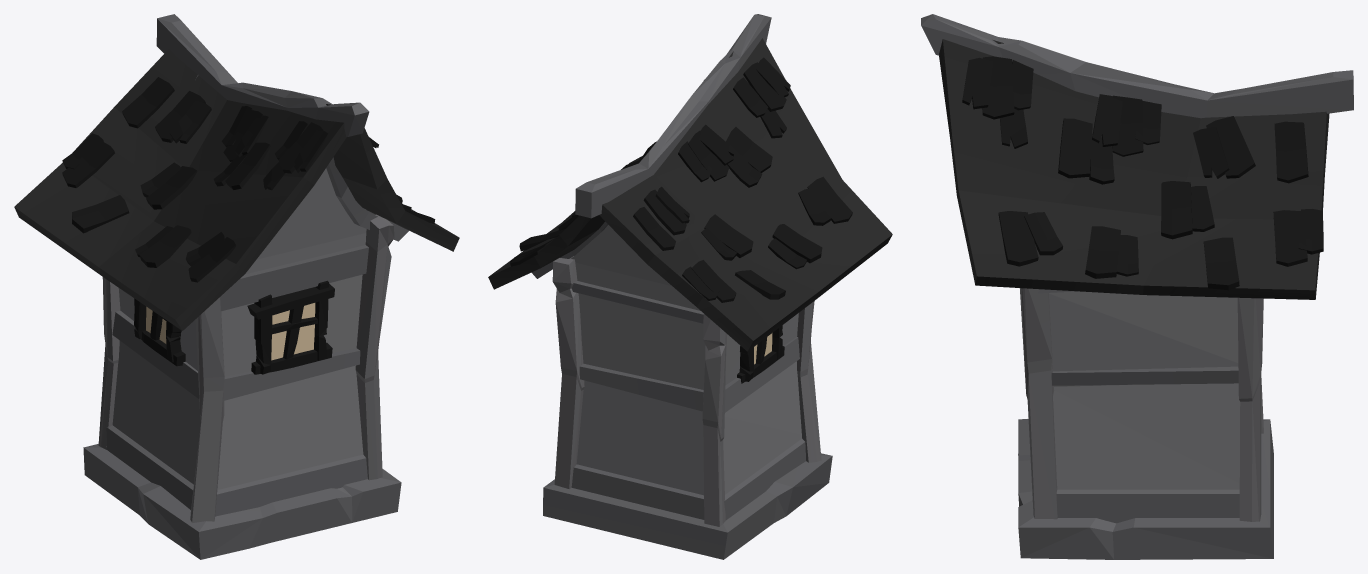
Rendered from WF_LP_HT_Build_HouseRoom.005.2.fbx.
3 views of the same model, side by side, from view 1: azimuth 30°, elevation 25°; view 2: azimuth 150°, elevation 25°; view 3: azimuth 270°, elevation 25° (orthographic). The views are drawn at different scales.
Visible parts, largest first — view 1: WF_LP_HT_Build_HouseRoom.005.2; view 2: WF_LP_HT_Build_HouseRoom.005.2; view 3: WF_LP_HT_Build_HouseRoom.005.2.
Boxes of the visible parts, x1,y1,x2,y2 form: WF_LP_HT_Build_HouseRoom.005.2: (14, 14, 459, 559); WF_LP_HT_Build_HouseRoom.005.2: (488, 14, 892, 559); WF_LP_HT_Build_HouseRoom.005.2: (921, 14, 1353, 559).
Size of the model in its own units: 4.39 by 6.46 by 5.08.
